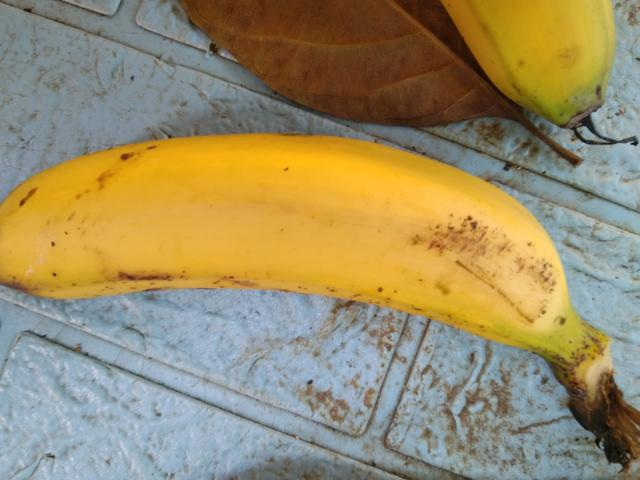ripe: (7, 128, 571, 377)
